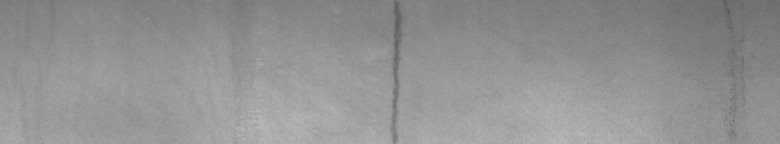hd: (388, 4, 404, 136)
